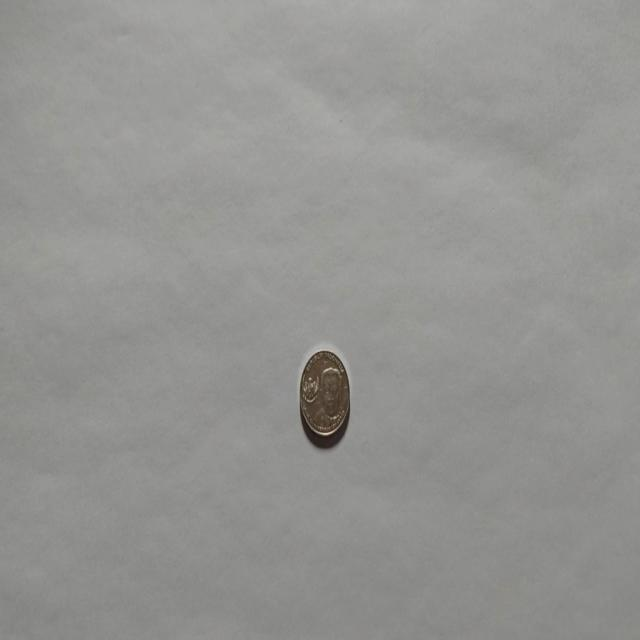seratus rupiah: (298, 348, 350, 440)
